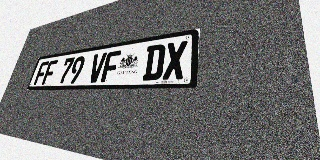7: (57, 57, 75, 84)
9: (68, 55, 86, 84)
D: (142, 43, 166, 81)
F: (100, 50, 121, 82), (41, 60, 58, 85), (33, 61, 49, 85)
V: (87, 52, 107, 83)
X: (162, 40, 188, 80)
